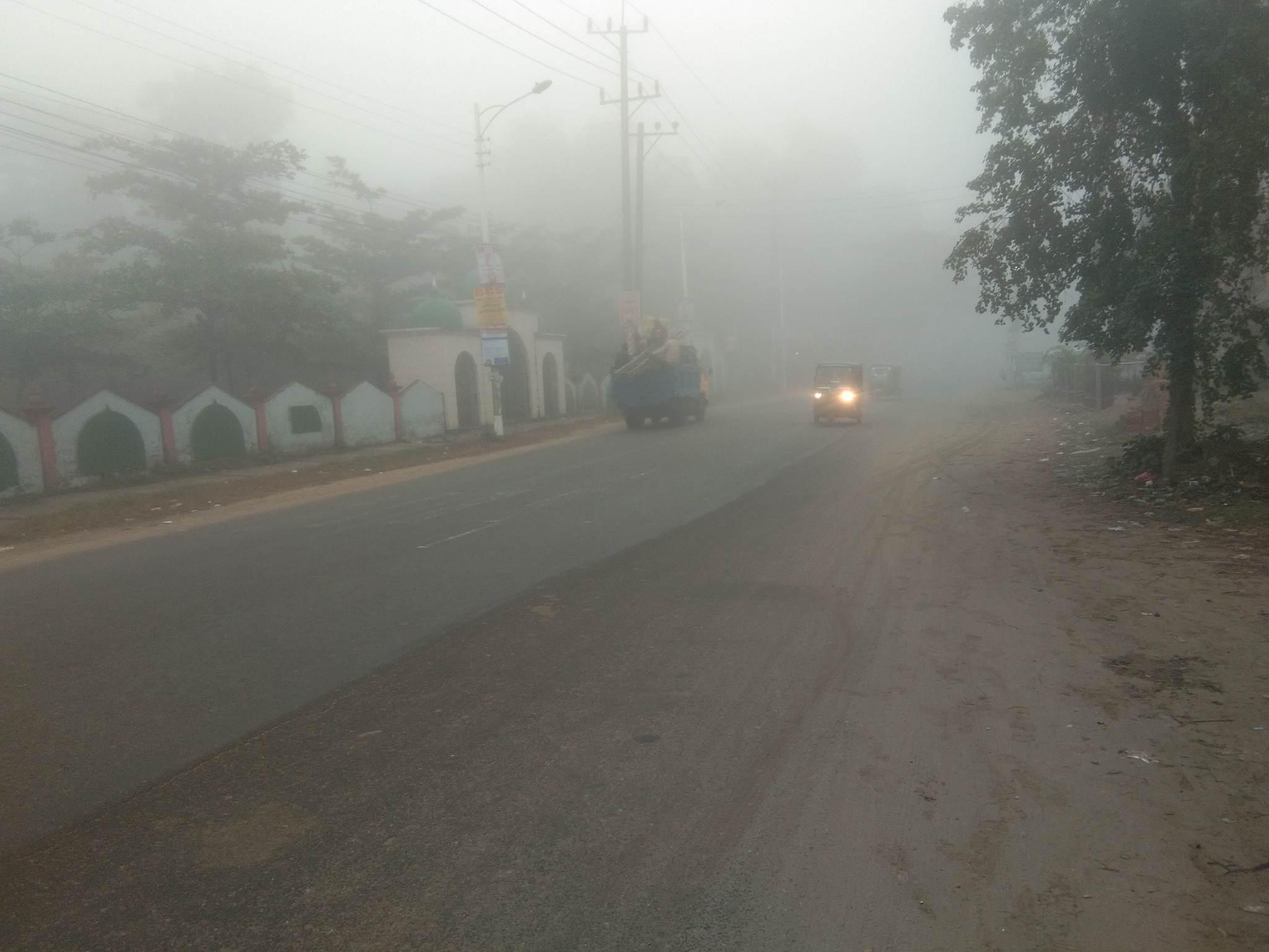Truck: (608, 314, 727, 441)
